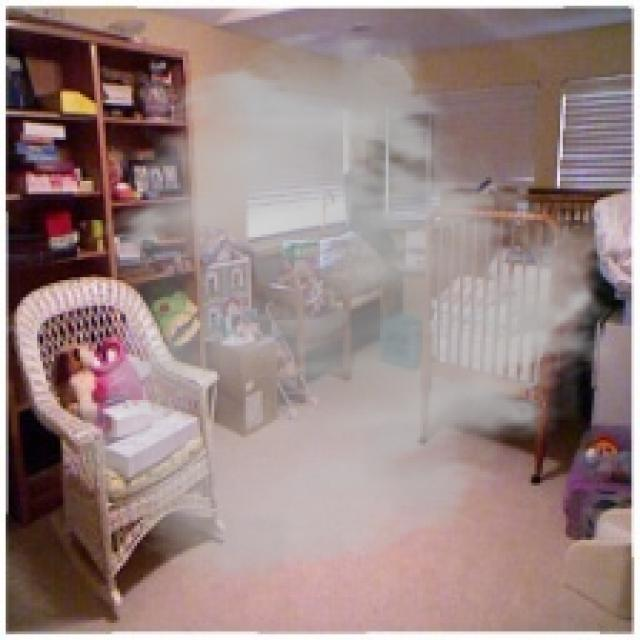smoke: (69, 26, 634, 591)
